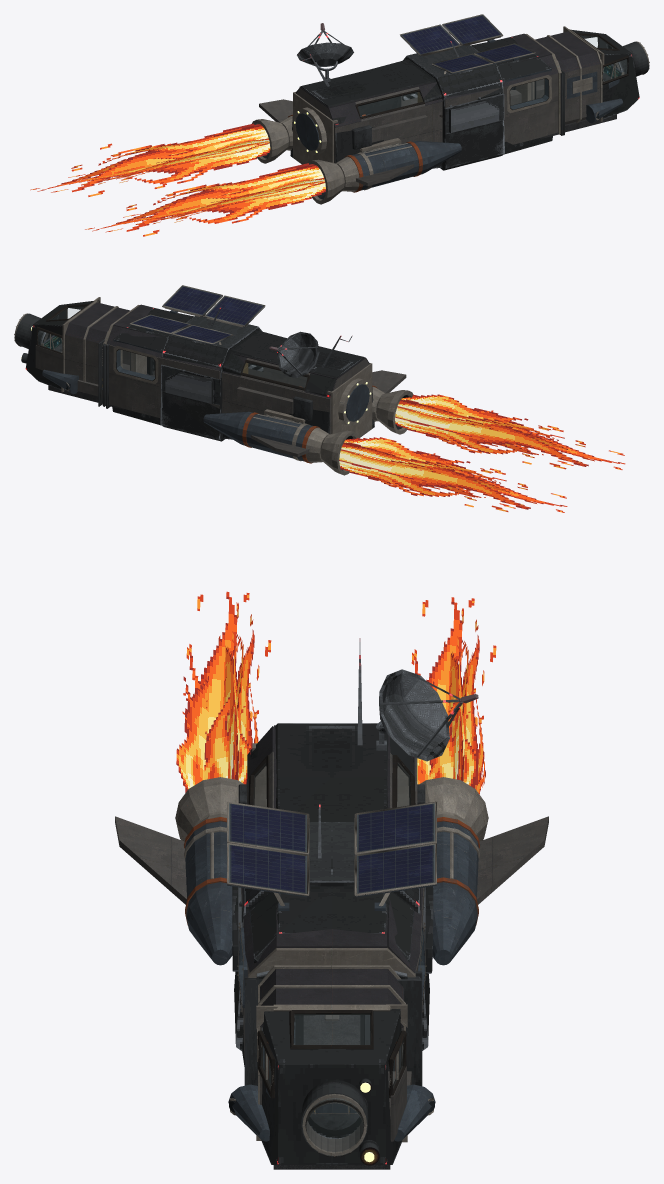
Rendered from lastship.glb.
The picture shows the model from 3 angles, top to bottom: view 1: azimuth 30°, elevation 25°; view 2: azimuth 150°, elevation 25°; view 3: azimuth 270°, elevation 25°; orthographic projection. The views are drawn at different scales.
Parts seen in each view (by area): view 1: Truck_Shell_Middle_Truck.017_0.002, right fire.002, left fire.002, Truck_Shell_Back_Truck.017_0.002, Main pressure vessel.004, Cockpit_Hull_Original.001, Mid_side_pressure_panel_Starboard.001, Truck_Dish_Truck.017_0.002, Truck_Window_Left_Truck.017_0.002, Aft_side_liner_Starboard_2.001, Aft pressure bulkhead.002, PV_Port_1_Cells.001 (+28 smaller); view 2: right fire.002, left fire.002, Truck_Shell_Middle_Truck.017_0.002, Truck_Shell_Back_Truck.017_0.002, Mid_side_pressure_panel_Port.001, Main pressure vessel.005, Truck_Dish_Truck.017_0.002, Aft pressure bulkhead.002, Cockpit_Hull_Original.001, Aft_side_liner_Port_2.001, Truck_Window_Right_Truck.017_0.002, PV_Starboard_1_Cells.001 (+31 smaller); view 3: Truck_Shell_Middle_Truck.017_0.002, Cockpit_Hull_Original.001, Truck_Shell_Back_Truck.017_0.002, right fire.002, left fire.002, Truck_Dish_Truck.017_0.002, Aft swept stabilizer.004, Aft swept stabilizer.005, Tapered nacelle.004, PV_Port_0_Cells.001, PV_Port_1_Cells.001, PV_Starboard_0_Cells.001 (+23 smaller).
Part boxes in pixels (bbox=[...]): Truck_Shell_Middle_Truck.017_0.002: bbox=[403, 37, 561, 170]; right fire.002: bbox=[85, 163, 325, 236]; left fire.002: bbox=[30, 123, 270, 196]; Truck_Shell_Back_Truck.017_0.002: bbox=[290, 59, 442, 168]; Main pressure vessel.004: bbox=[352, 141, 427, 190]; Cockpit_Hull_Original.001: bbox=[571, 29, 639, 119]; Mid_side_pressure_panel_Starboard.001: bbox=[444, 86, 538, 144]; Truck_Dish_Truck.017_0.002: bbox=[297, 23, 353, 70]; Truck_Window_Left_Truck.017_0.002: bbox=[449, 97, 499, 132]; Aft_side_liner_Starboard_2.001: bbox=[397, 101, 442, 143]; Aft pressure bulkhead.002: bbox=[293, 92, 337, 164]; PV_Port_1_Cells.001: bbox=[445, 16, 499, 43]; right fire.002: bbox=[395, 394, 625, 469]; left fire.002: bbox=[339, 437, 567, 512]; Truck_Shell_Middle_Truck.017_0.002: bbox=[104, 308, 262, 441]; Truck_Shell_Back_Truck.017_0.002: bbox=[223, 330, 374, 439]; Mid_side_pressure_panel_Port.001: bbox=[126, 357, 220, 418]; Main pressure vessel.005: bbox=[237, 412, 313, 461]; Truck_Dish_Truck.017_0.002: bbox=[269, 331, 319, 377]; Aft pressure bulkhead.002: bbox=[327, 363, 372, 437]; Cockpit_Hull_Original.001: bbox=[25, 300, 99, 391]; Aft_side_liner_Port_2.001: bbox=[222, 372, 267, 414]; Truck_Window_Right_Truck.017_0.002: bbox=[165, 369, 213, 403]; PV_Starboard_1_Cells.001: bbox=[165, 287, 219, 314]; Truck_Shell_Middle_Truck.017_0.002: bbox=[234, 822, 429, 1066]; Cockpit_Hull_Original.001: bbox=[261, 1009, 402, 1164]; Truck_Shell_Back_Truck.017_0.002: bbox=[246, 723, 413, 821]; right fire.002: bbox=[176, 591, 271, 792]; left fire.002: bbox=[411, 597, 496, 794]; Truck_Dish_Truck.017_0.002: bbox=[376, 669, 478, 761]; Aft swept stabilizer.004: bbox=[115, 816, 186, 904]; Aft swept stabilizer.005: bbox=[477, 816, 548, 904]; Tapered nacelle.004: bbox=[186, 887, 232, 965]; PV_Port_0_Cells.001: bbox=[359, 804, 432, 851]; PV_Port_1_Cells.001: bbox=[359, 845, 432, 892]; PV_Starboard_0_Cells.001: bbox=[231, 804, 304, 851].
Size of what is drawn, in the model's own units: 18.67 by 3.76 by 5.96.
Materials: 53 (43 with a texture image).
